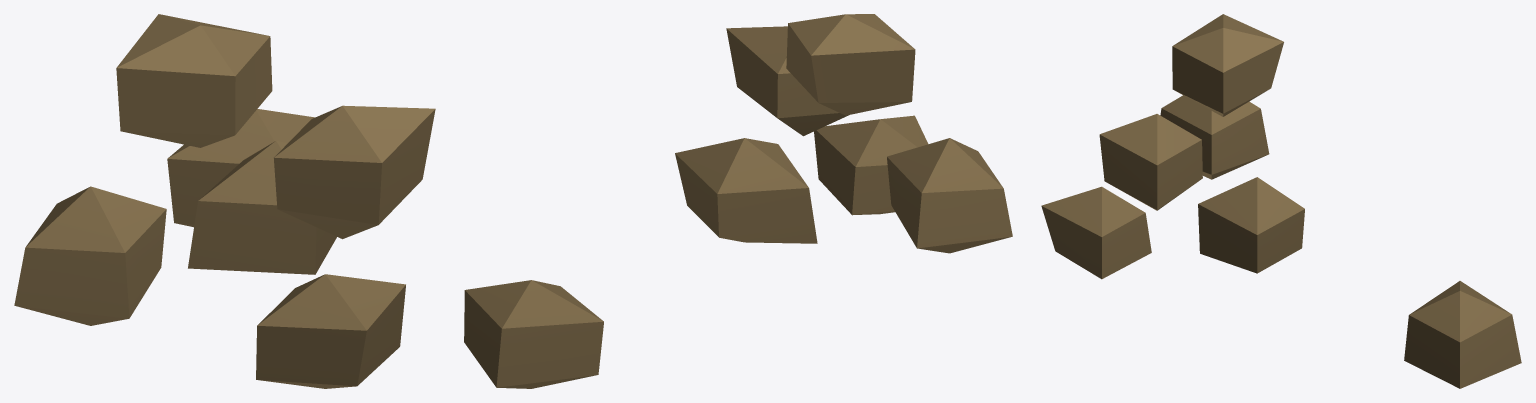
File: caral_shicra_stack_lod1.glb
3 renders of one model, left to right at view 1: azimuth 30°, elevation 25°; view 2: azimuth 150°, elevation 25°; view 3: azimuth 270°, elevation 25°, orthographic. The views are drawn at different scales.
Parts seen in each view (by area): view 1: GEO-Arch_shicra_stack_LOD1; view 2: GEO-Arch_shicra_stack_LOD1; view 3: GEO-Arch_shicra_stack_LOD1.
Part boxes in pixels (box(x1,y1,x2,y2)): GEO-Arch_shicra_stack_LOD1: box(14, 14, 435, 388); GEO-Arch_shicra_stack_LOD1: box(464, 14, 1012, 388); GEO-Arch_shicra_stack_LOD1: box(1041, 14, 1521, 388).
Size of the model in its own units: 1.84 by 1.38 by 2.13.
